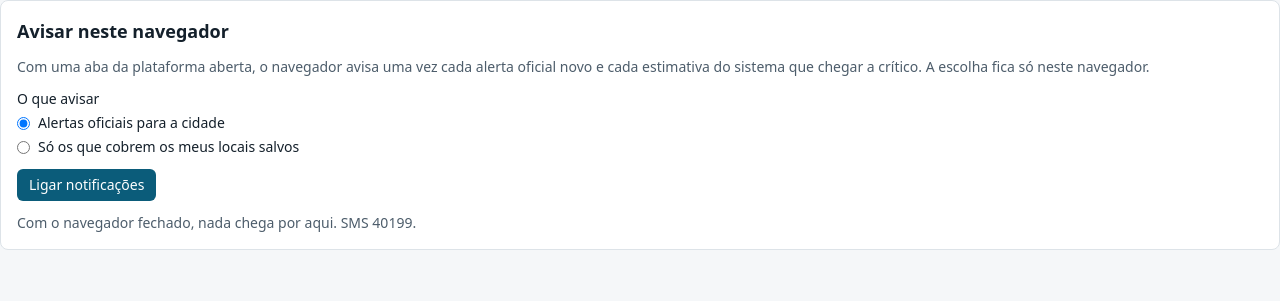
Scenario: notificações no navegador › ligar pede a permissão e não avisa o que já estava na tela
The image size is (1280, 301).
Click the button "Ligar notificações": (87, 185) [17,169,156,201]
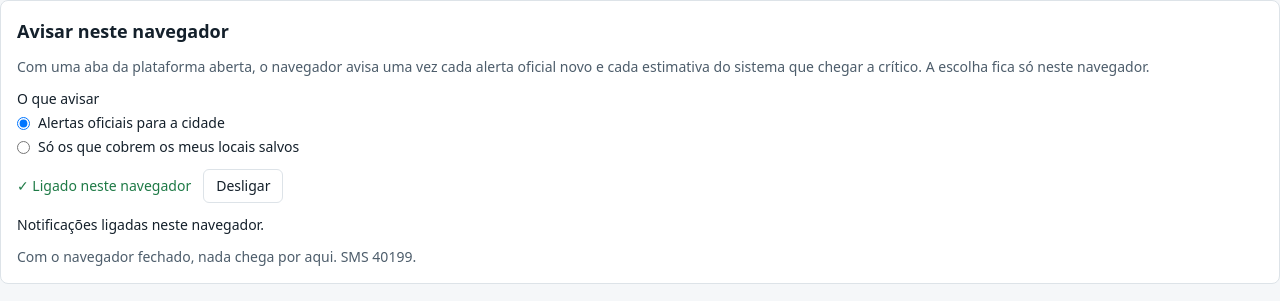
Check: the text "Notificações ligadas neste navegador." is shown, box [17,215,264,234]
Check: the button "Desligar" is shown, box [203,169,284,203]
